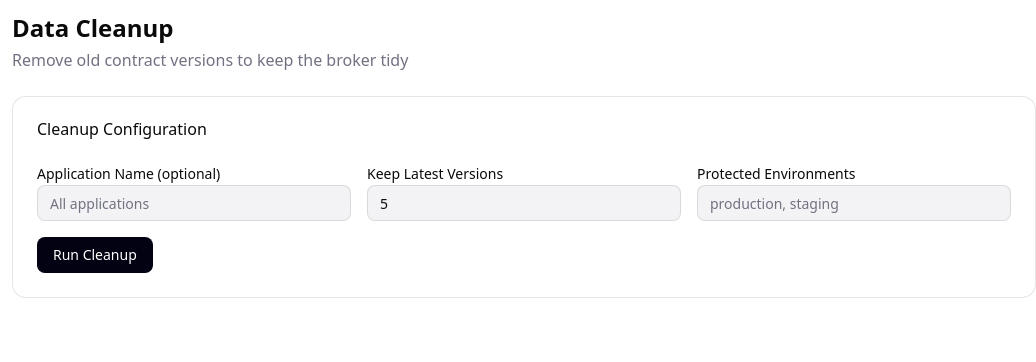
CleanupPage › should show error message when API fails
This screenshot has width=1036, height=362.
Click the button "Run Cleanup".
click(95, 255)  # box left=37, top=237, right=153, bottom=273
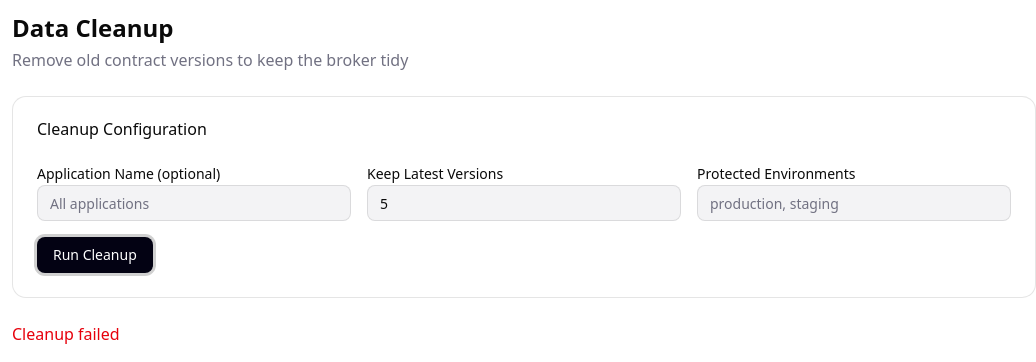
Now the text "Cleanup failed" is shown, box left=12, top=323, right=120, bottom=345
